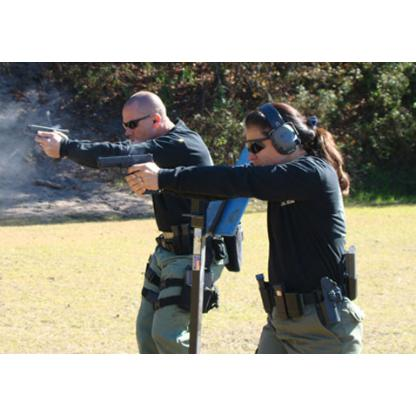gun: (98, 152, 158, 192), (26, 119, 68, 158)
